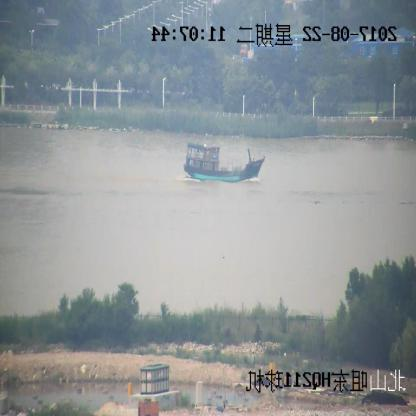Fishing Boat: (184, 140, 263, 184)
